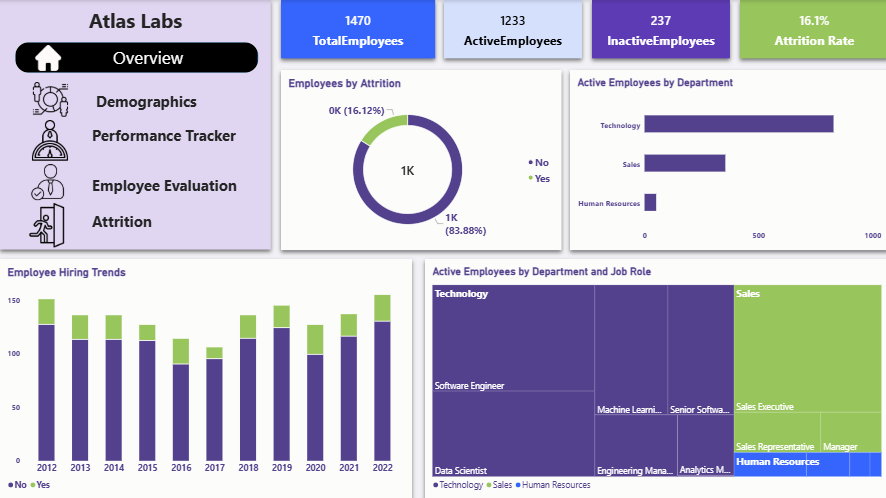

Layout of this report page (visuals, bound fields, positions):
{"tool":"powerbi","page":{"name":"Overview","canvas":[1920,1080],"ordinal":0},"visuals":[{"type":"card","fields":{"Values":["_Measures.TotalEmployees"]},"box":[606,0,332.5,126],"z":0},{"type":"card","fields":{"Values":["_Measures.ActiveEmployees"]},"box":[960,0,297.7,126],"z":1000},{"type":"card","fields":{"Values":["_Measures.InactiveEmployees"]},"box":[1279.1,0,297.7,126],"z":2000},{"type":"card","fields":{"Values":["_Measures.Attrition Rate"]},"box":[1598.2,0,321.8,126],"z":3000},{"type":"columnChart","title":"Employee Hiring Trends","fields":{"Category":["DimDate.Date.Variation.Date Hierarchy.Year"],"Series":["DimEmployee.Attrition"],"Y":["_Measures.TotalEmployeesDate"]},"box":[0,559.4,889.9,520.6],"z":4000},{"type":"clusteredBarChart","title":"Active Employees by Department","fields":{"Category":["DimEmployee.Department"],"Y":["_Measures.ActiveEmployees"]},"box":[1231.2,151.2,689,388.8],"z":5000},{"type":"treemap","title":"Active Employees by Department and Job Role","fields":{"Details":["DimEmployee.JobRole"],"Group":["DimEmployee.Department"],"Values":["_Measures.ActiveEmployees"]},"box":[918,559.4,1002.2,520.6],"z":6000},{"type":"donutChart","title":"Employees by Attrition","fields":{"Category":["DimEmployee.Attrition"],"Y":["_Measures.TotalEmployees"]},"box":[606,150.2,606,388.8],"z":7000},{"type":"textbox","title":"Atlas Labe","box":[0,0,584.6,539],"z":8000},{"type":"shape","box":[32.2,91.2,525.6,67],"z":9000},{"type":"image","box":[1.4,96.5,203.8,56.3],"z":10000},{"type":"textbox","box":[244,96.5,201.1,281.6],"z":11000},{"type":"image","box":[55,177,109.9,75.1],"z":12000},{"type":"image","box":[20.1,260.1,177,88.5],"z":13000},{"type":"image","box":[26.8,434.4,150.2,104.6],"z":14000},{"type":"image","box":[57.7,351.3,88.5,83.1],"z":15000},{"type":"textbox","box":[206.5,195.8,351.3,292.3],"z":16000},{"type":"textbox","box":[198.4,270.8,359.3,163.6],"z":17000},{"type":"textbox","box":[198.4,378.1,386.1,109.9],"z":18000},{"type":"textbox","box":[198.4,455.9,337.9,83.1],"z":19000}]}

Visuals, with their boxes in screenshot pixels (x1, y1, x2, y2), scaled from the page's 1920x1080 canvas onto the 886x498 screenshot:
card - _Measures.TotalEmployees: bbox(280, 0, 433, 58)
card - _Measures.ActiveEmployees: bbox(443, 0, 580, 58)
card - _Measures.InactiveEmployees: bbox(590, 0, 728, 58)
card - _Measures.Attrition Rate: bbox(738, 0, 885, 58)
"Employee Hiring Trends" columnChart: bbox(0, 258, 411, 497)
"Active Employees by Department" clusteredBarChart: bbox(568, 70, 885, 249)
"Active Employees by Department and Job Role" treemap: bbox(424, 258, 885, 497)
"Employees by Attrition" donutChart: bbox(280, 69, 559, 249)
"Atlas Labe" textbox: bbox(0, 0, 270, 249)
shape: bbox(15, 42, 257, 73)
image: bbox(1, 44, 95, 70)
textbox: bbox(113, 44, 205, 174)
image: bbox(25, 82, 76, 116)
image: bbox(9, 120, 91, 161)
image: bbox(12, 200, 82, 249)
image: bbox(27, 162, 67, 200)
textbox: bbox(95, 90, 257, 225)
textbox: bbox(92, 125, 257, 200)
textbox: bbox(92, 174, 270, 225)
textbox: bbox(92, 210, 247, 249)
